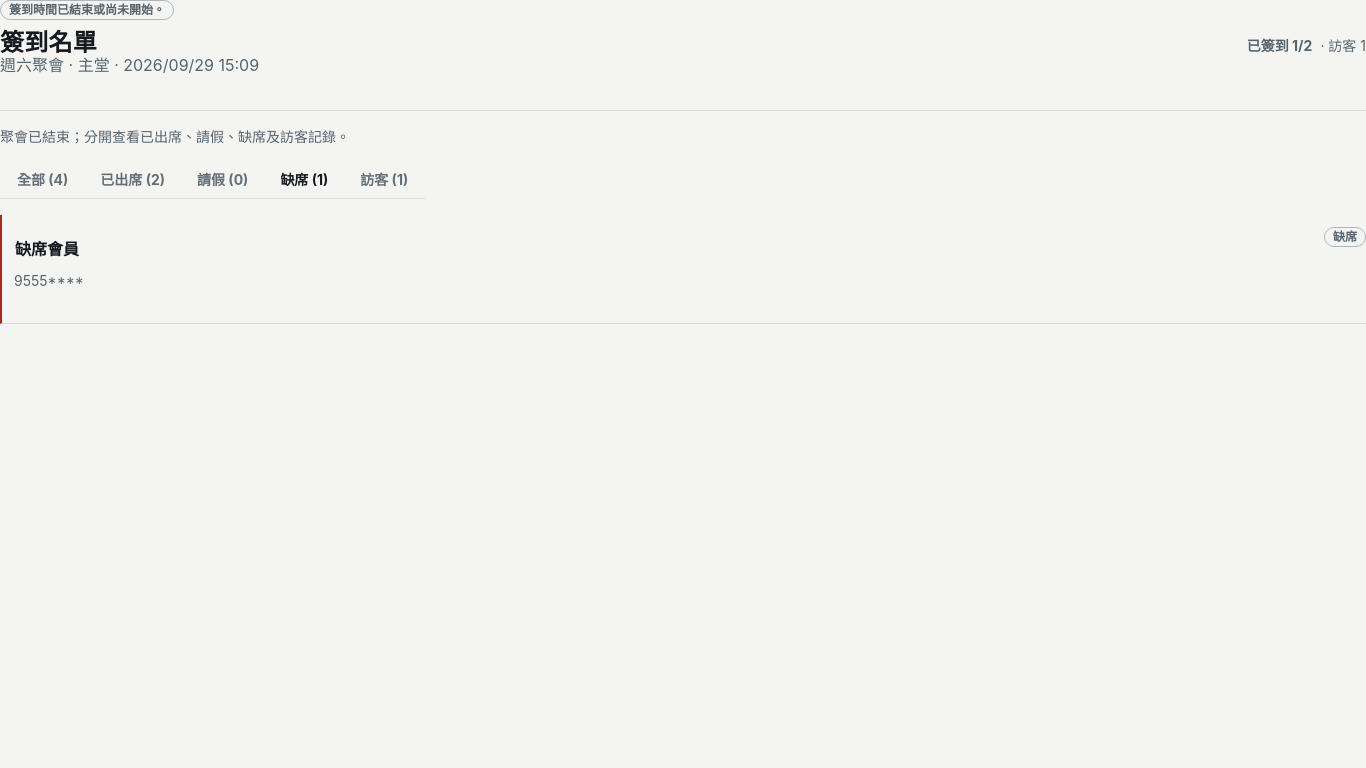
AttendanceRoster › post-event Guest filter excludes unexpected member attendance but preserves both histories
The width and height of the screenshot is (1366, 768).
Click the tab "訪客 (1)": (384, 180) [346,158,422,202]
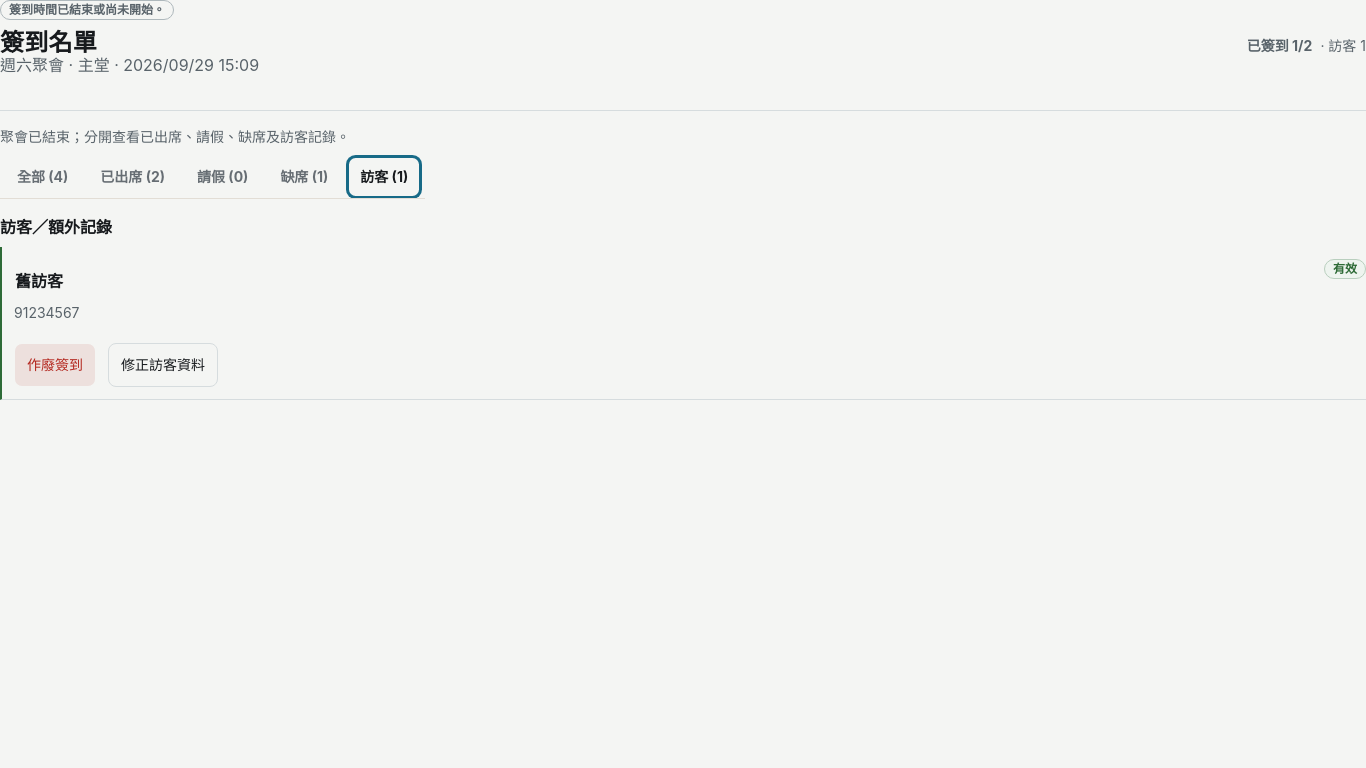
Expected: the text "臨時加入會員" is not shown
Expected: the button "舊訪客" is shown, [14,259,80,303]
Click the tab "已出席 (2)": (133, 177) [86,155,179,199]
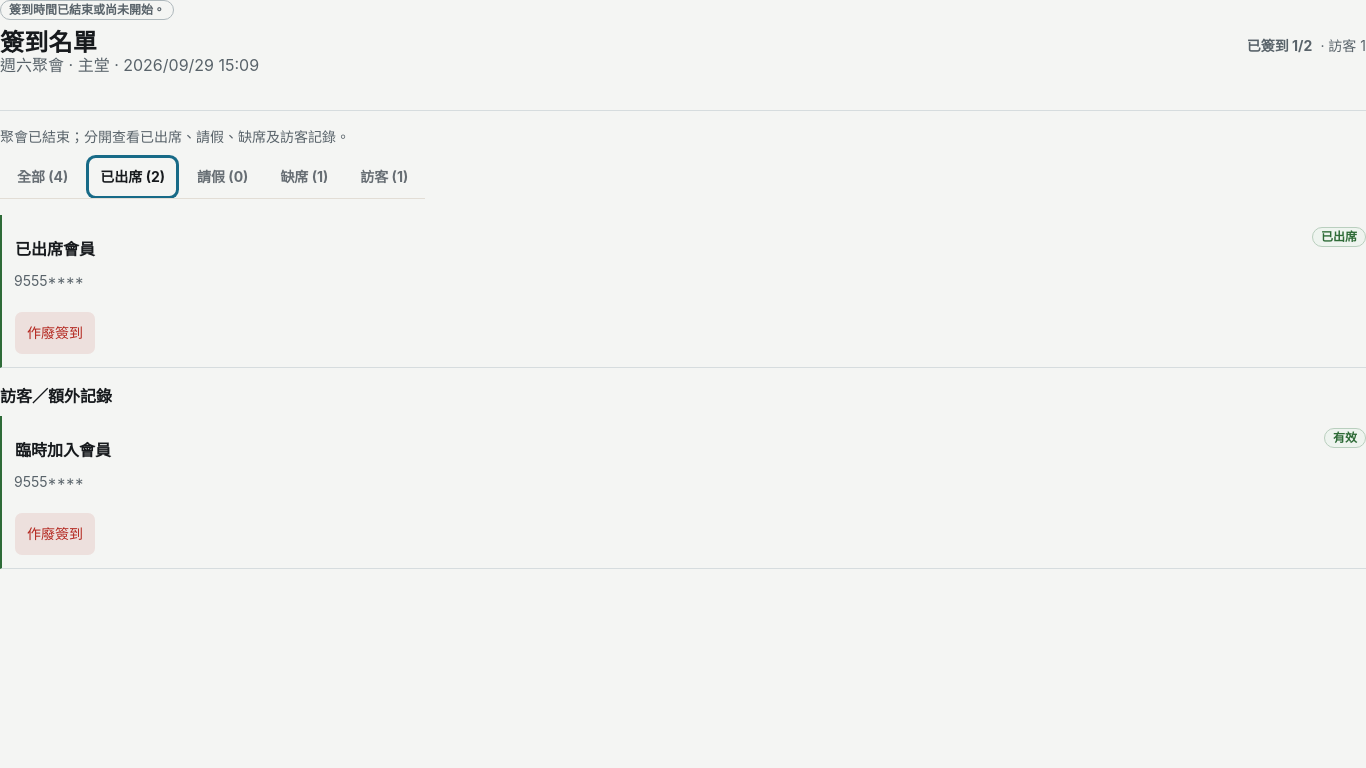
Expected: the button "已出席會員" is shown, [14,227,96,271]
Expected: the button "臨時加入會員" is shown, [14,428,112,472]
Expected: the button "舊訪客" is gone
Click the tab "全部 (4)": (43, 177) [3,155,82,199]
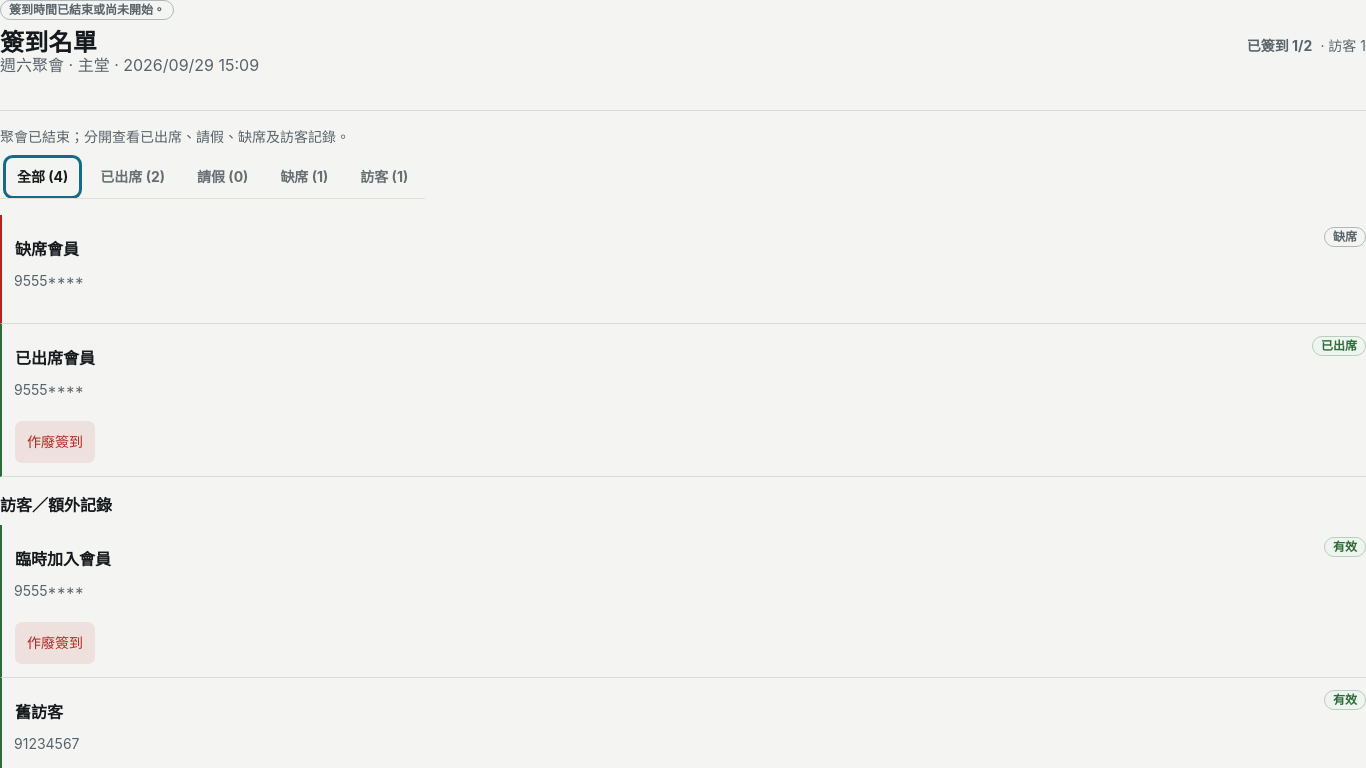
Expected: the button "臨時加入會員" is shown
Click the button "臨時加入會員": (63, 559) [14,537,112,581]
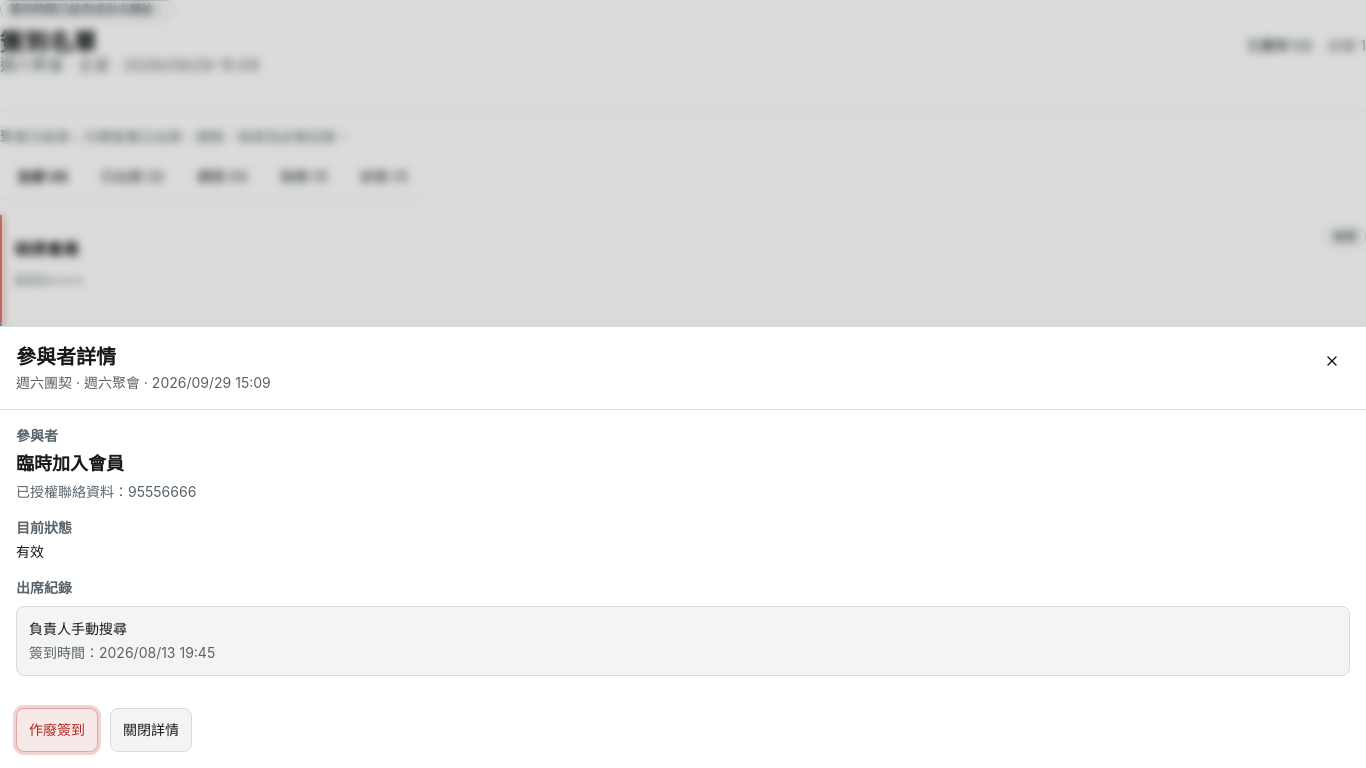
Expected: the heading "出席紀錄" is shown, [16,579,72,596]
Expected: the button "作廢簽到" is shown, [16,708,98,752]
Press Escape
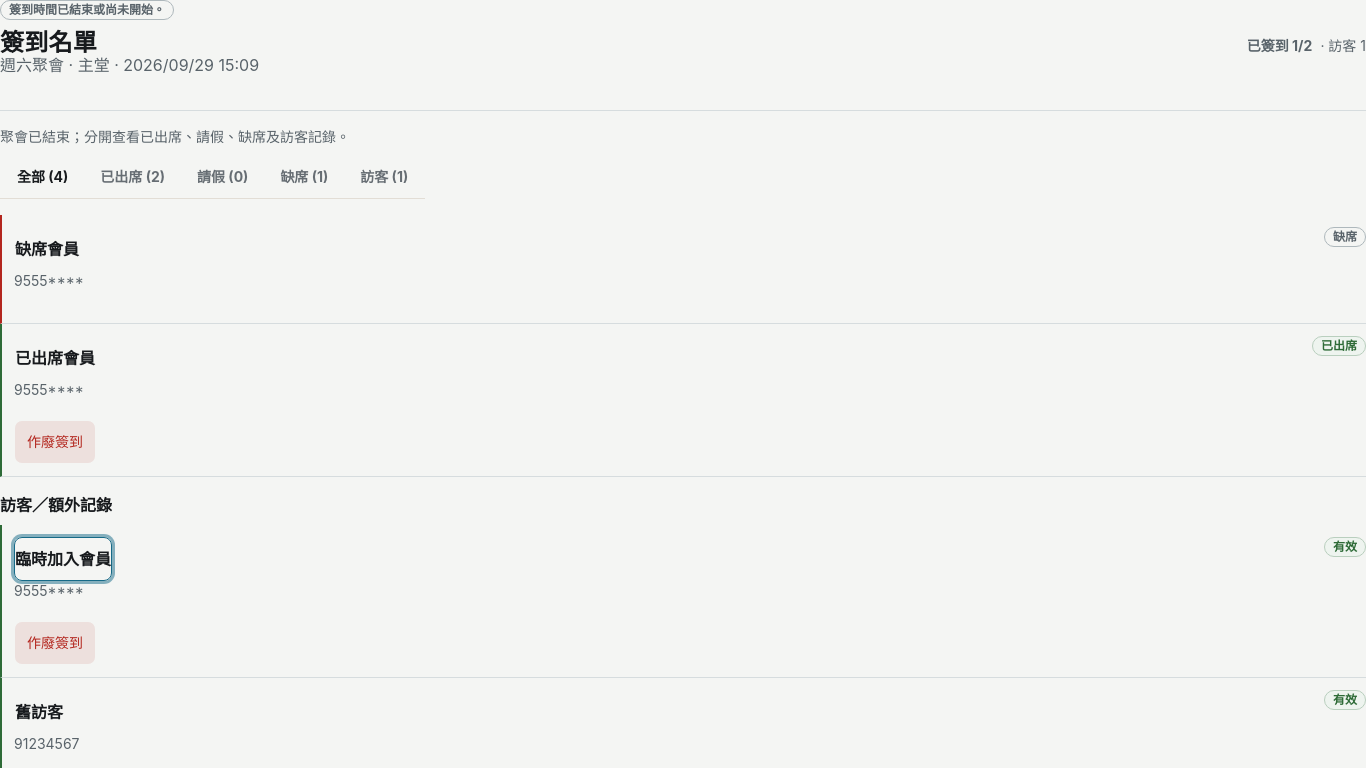
Click the button "舊訪客": (47, 712) [14,690,80,734]
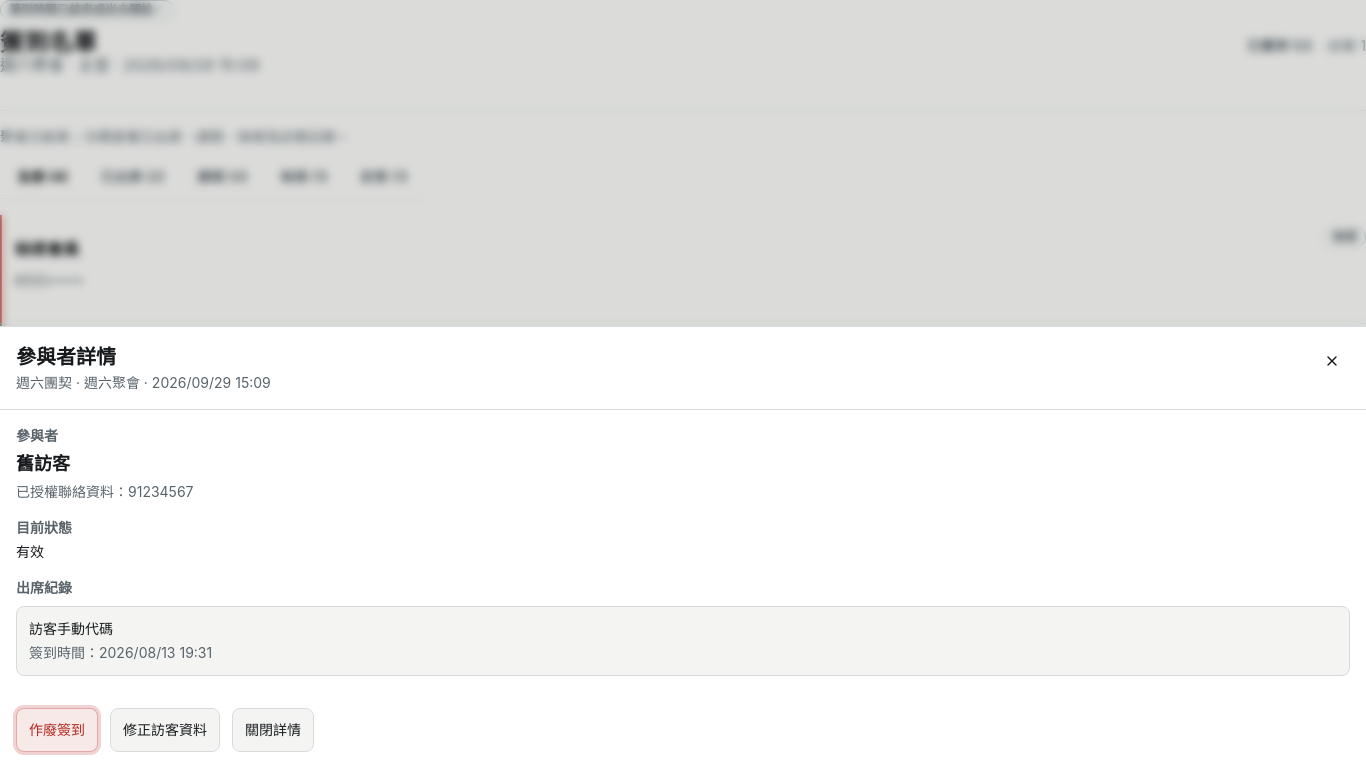
Expected: the button "修正訪客資料" is shown, [110,708,220,752]
